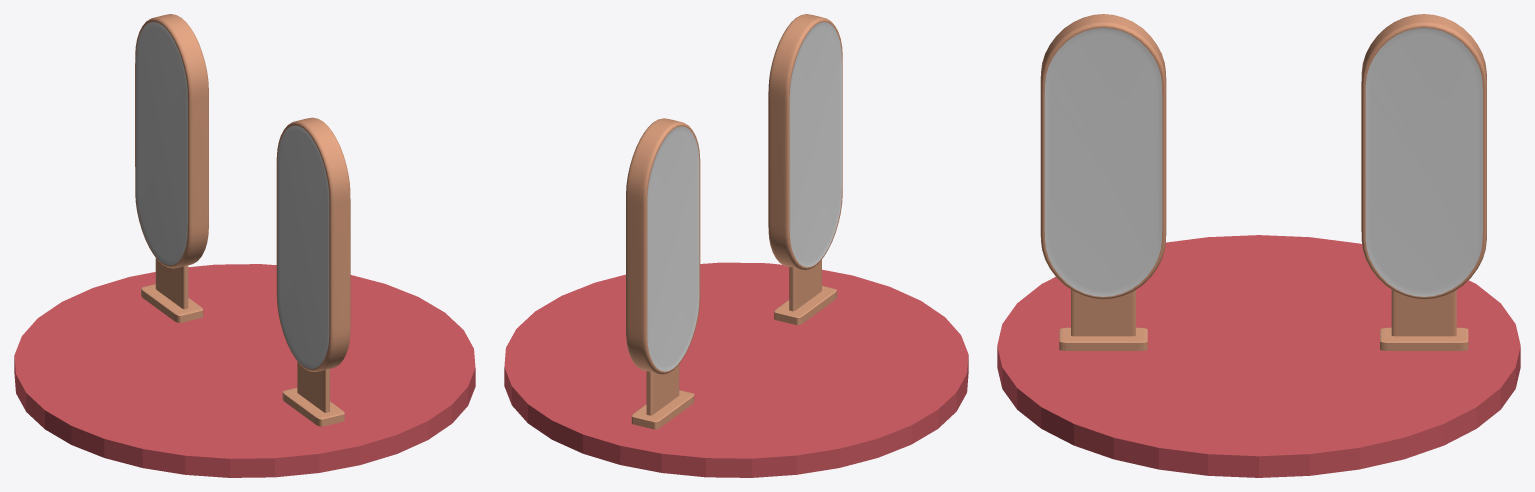
File: Mirror & Centre Platfrom.fbx
3 renders of one model, left to right at view 1: azimuth 30°, elevation 25°; view 2: azimuth 150°, elevation 25°; view 3: azimuth 270°, elevation 25°, orthographic. The views are drawn at different scales.
Visible parts, largest first — view 1: Cylinder.006, Cylinder.001, Cube.023, Cube.022; view 2: Cylinder.006, Cylinder.001, Cube.022, Cube.023; view 3: Cylinder.001, Cube.023, Cube.022, Cylinder.006.
Part boxes in pixels (x1,y1,x2,y2): Cylinder.006: (14, 277, 360, 477); Cylinder.001: (130, 264, 475, 464); Cube.023: (276, 117, 350, 426); Cube.022: (135, 14, 208, 322); Cylinder.006: (620, 275, 968, 477); Cylinder.001: (504, 262, 852, 464); Cube.022: (626, 118, 700, 429); Cube.023: (768, 14, 842, 325); Cylinder.001: (997, 345, 1520, 477); Cube.023: (1040, 14, 1166, 350); Cube.022: (1361, 14, 1486, 350); Cylinder.006: (997, 235, 1520, 366).
Bounding box in the file's own units: 539 × 396 × 539.
